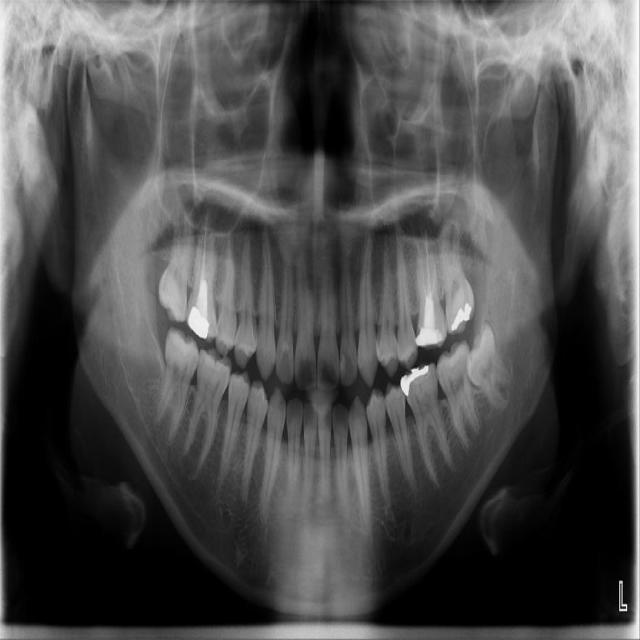Filling: (187, 281, 212, 339), (414, 313, 442, 345), (400, 366, 430, 395), (451, 303, 472, 330)
impacted tooth: (465, 321, 513, 408)
